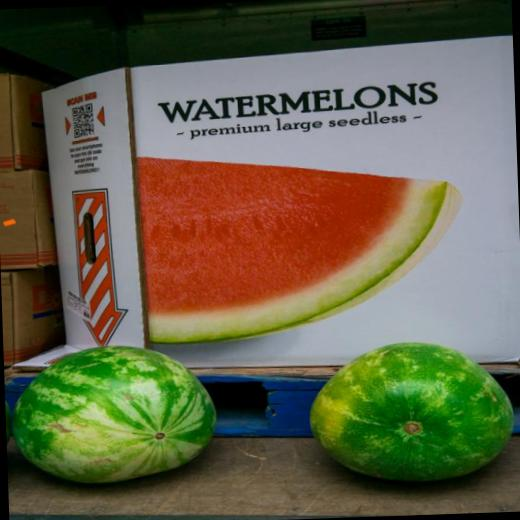Cherry: (136, 142, 467, 344), (306, 338, 520, 486), (9, 340, 219, 486)
